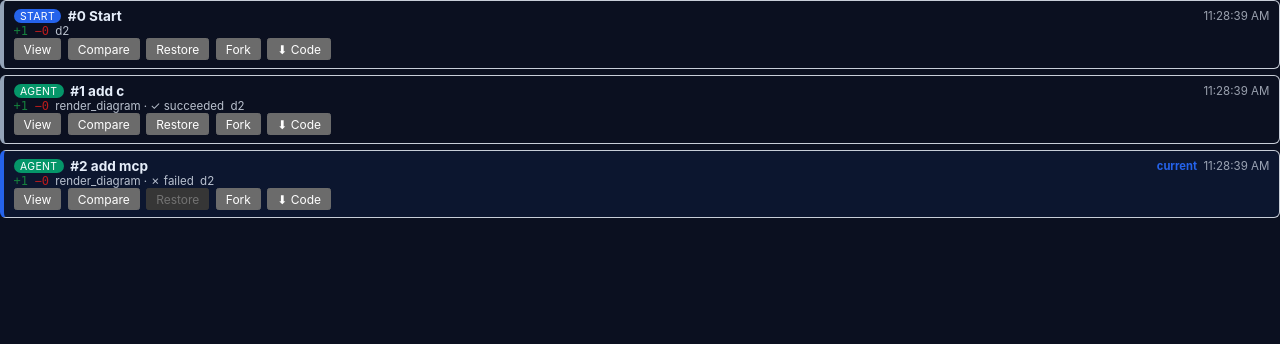
Test case: RevisionTimeline › compares two revisions line by line
Click the button with test id "rev-compare" below "#0 Start": (104, 49) [68,38,140,60]
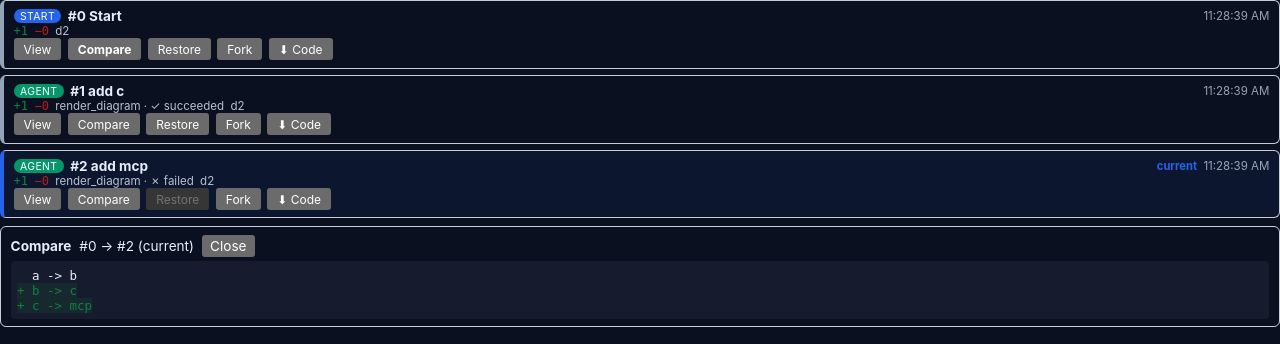
expect the element with test id "rev-diff" shows "+ b -> c": met, box [17,283,77,298]
expect the element with test id "rev-diff" shows "+ c -> mcp": met, box [17,298,92,313]
